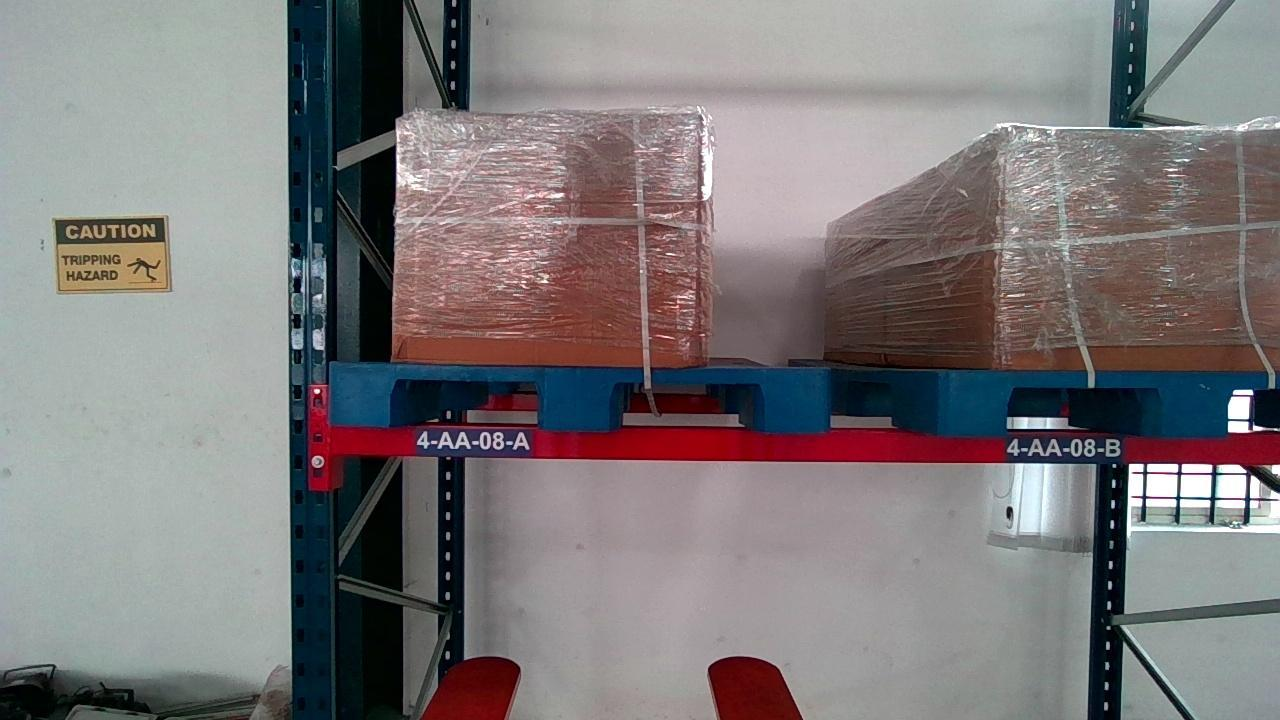h_rack: (321, 424, 1280, 463)
small_pallet: (330, 359, 829, 427), (955, 370, 1280, 433)
